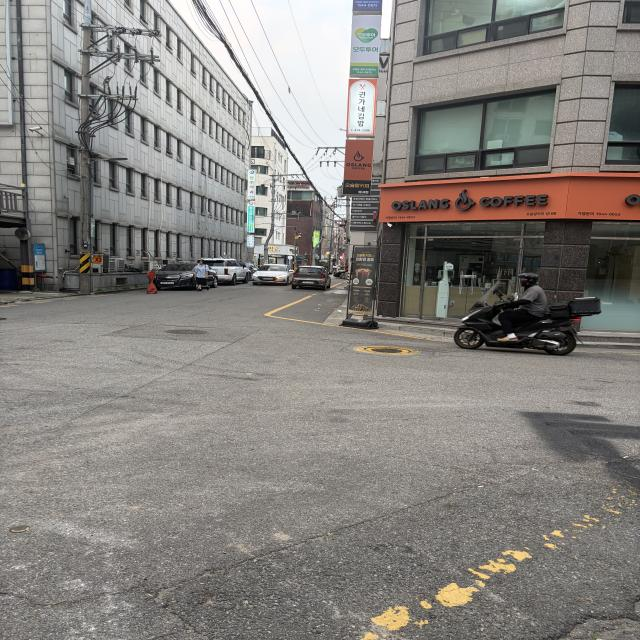car: (147, 259, 221, 294), (288, 264, 335, 294), (248, 260, 294, 288)
motorcycle: (428, 251, 618, 383)
